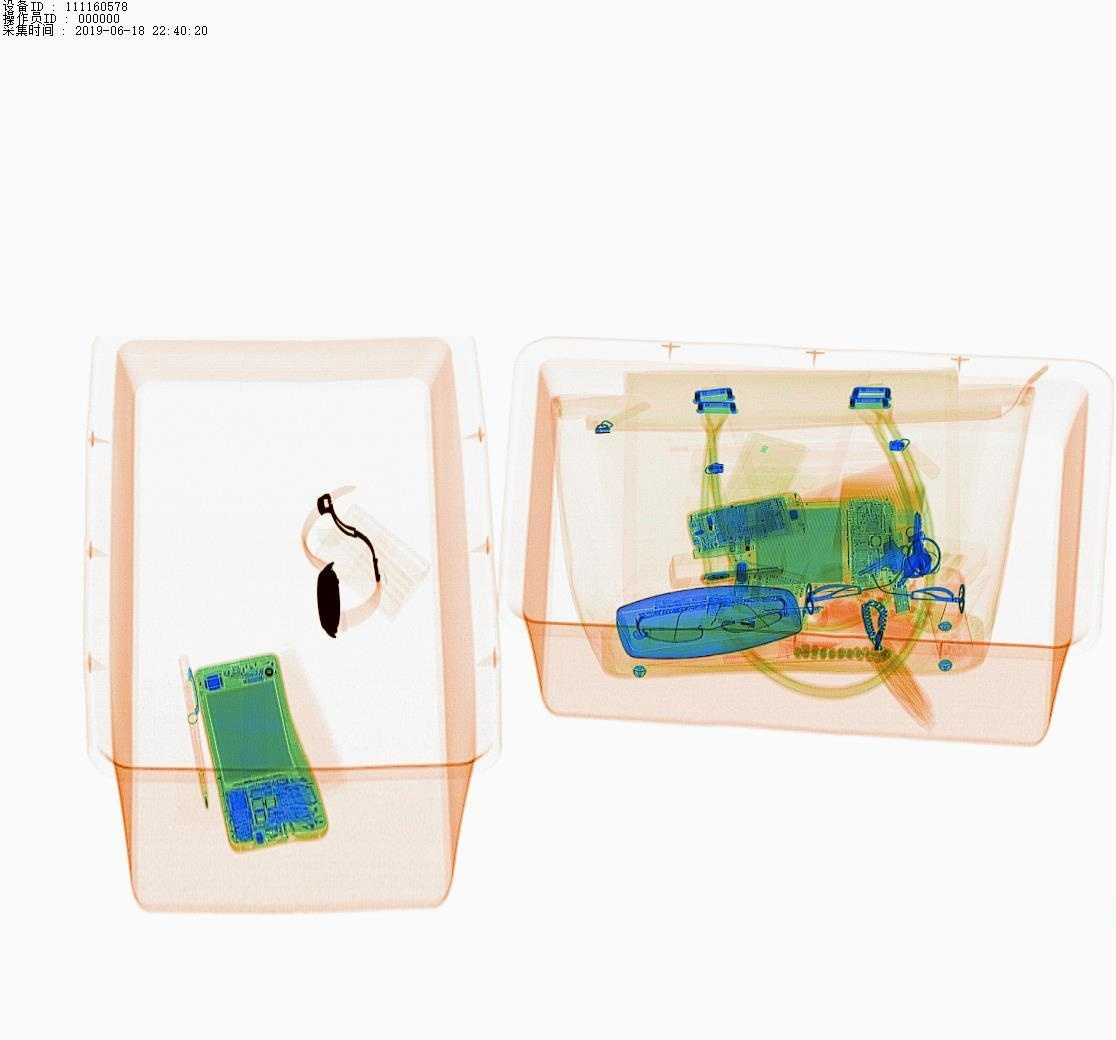NonmetallicFire: (691, 588, 812, 648)
